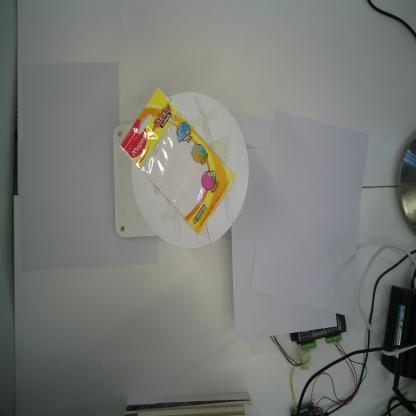Stationery: (118, 86, 238, 238)
